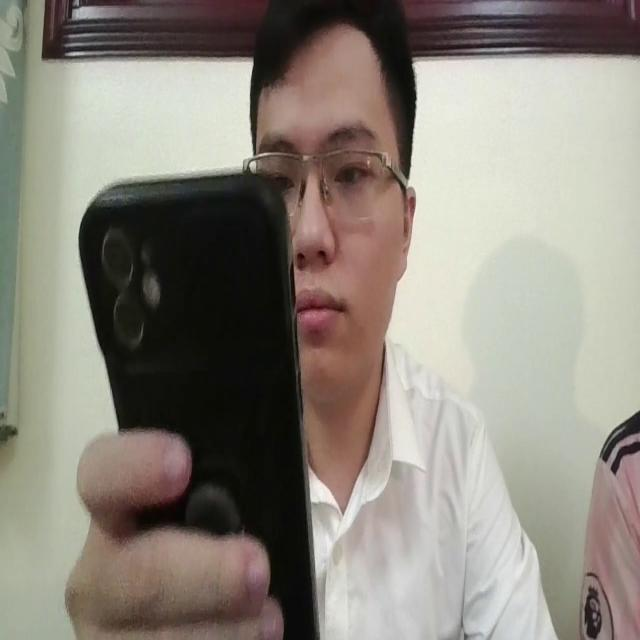phone: (76, 162, 328, 640)
student: (238, 0, 561, 640)
